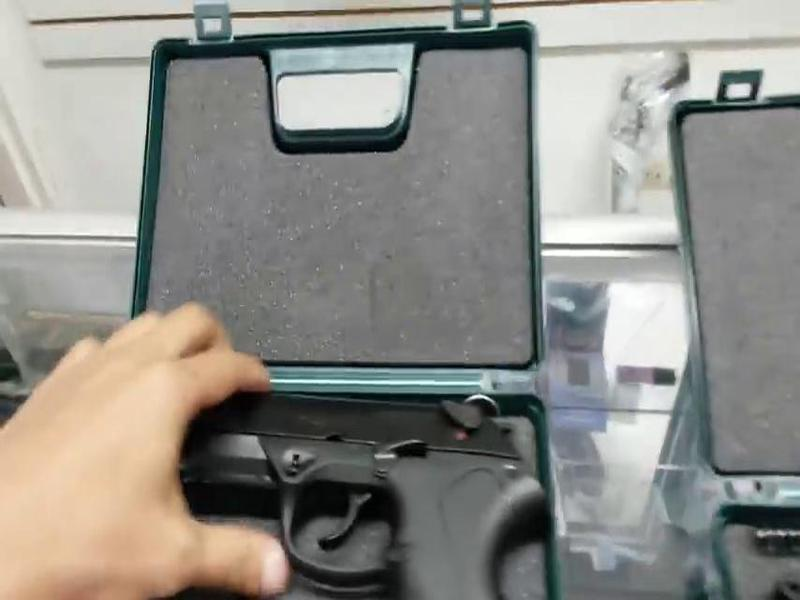Pistola: (188, 345, 541, 600)
